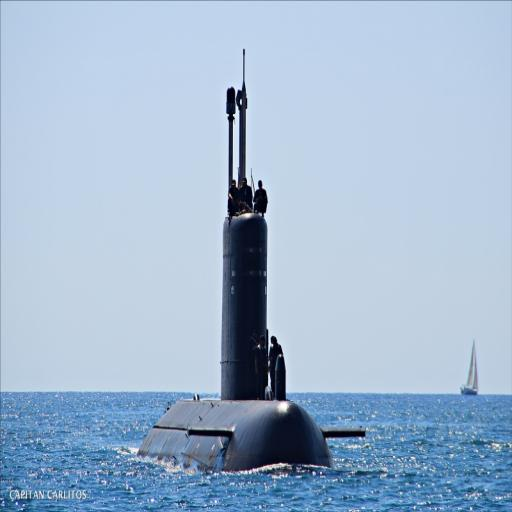submarine: (132, 31, 337, 472)
